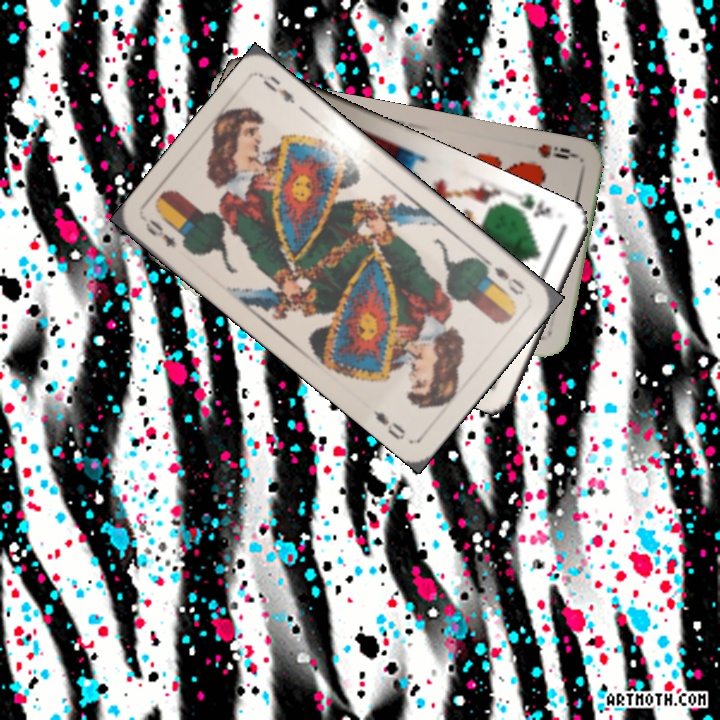EO: (481, 256, 529, 298), (141, 214, 179, 251)
GK: (514, 188, 554, 220)
H9: (534, 140, 579, 162)
